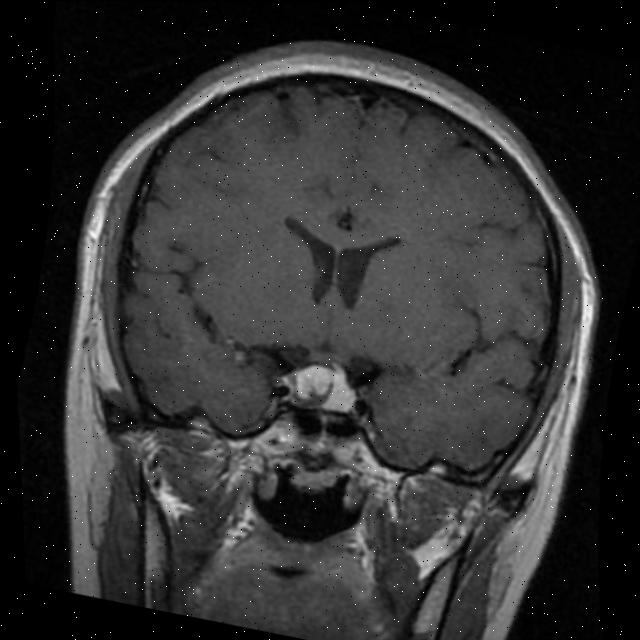Pituitary: (283, 356, 363, 417)
